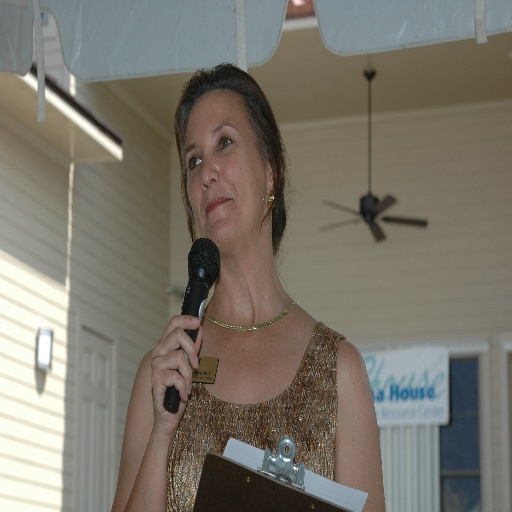hand: (135, 312, 201, 437)
